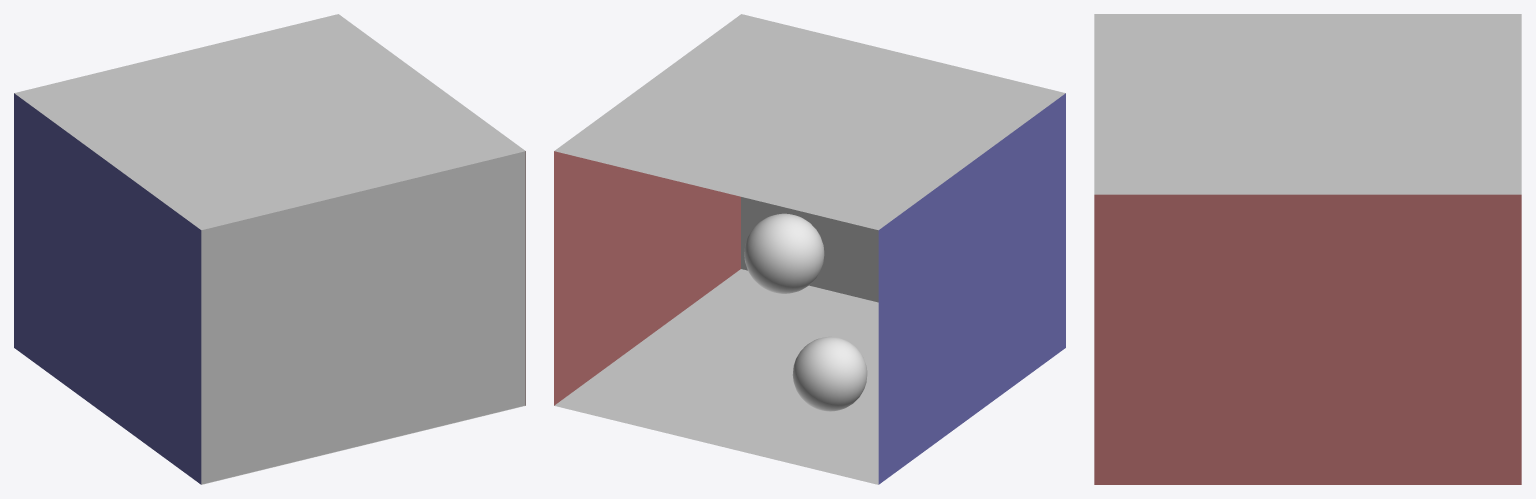
3 views of the same model, side by side, from view 1: azimuth 30°, elevation 25°; view 2: azimuth 150°, elevation 25°; view 3: azimuth 270°, elevation 25° (orthographic). The views are drawn at different scales.
Parts seen in each view (by area): view 1: backWall, ceiling, rightWall; view 2: ceiling, rightWall, floor, leftWall, backWall, Sphere, Sphere_001; view 3: leftWall, ceiling.
Boxes of the visible parts, box(x1,y1,x2,y2) form: backWall: box(201, 151, 525, 484); ceiling: box(14, 14, 525, 230); rightWall: box(14, 93, 201, 484); ceiling: box(554, 14, 1065, 230); rightWall: box(878, 93, 1065, 484); floor: box(554, 269, 878, 484); leftWall: box(554, 151, 740, 405); backWall: box(741, 197, 878, 302); Sphere: box(744, 213, 824, 293); Sphere_001: box(792, 336, 867, 411); leftWall: box(1094, 194, 1521, 484); ceiling: box(1094, 14, 1521, 194).
Size of the model in its own units: 9.34 by 9.34 by 7.01.
